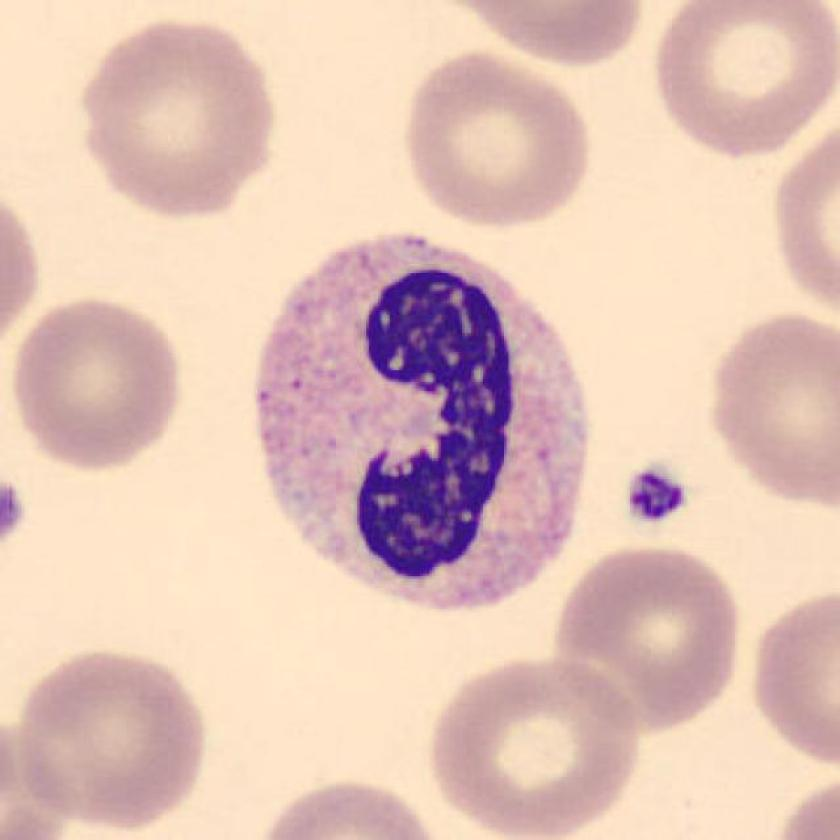neutrophil: (253, 238, 590, 612)
